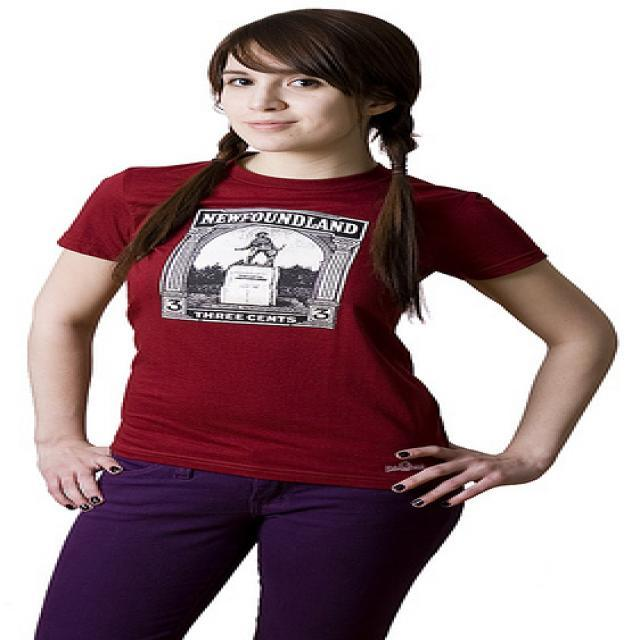short sleeve shirt: (52, 150, 551, 496)
trousers: (30, 455, 474, 640)
